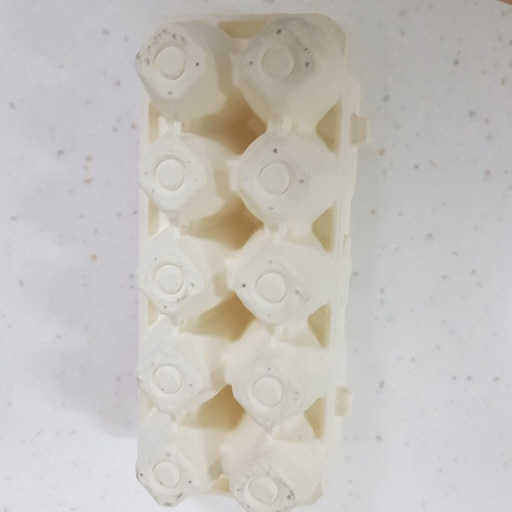Paper_0: (125, 14, 372, 512)
